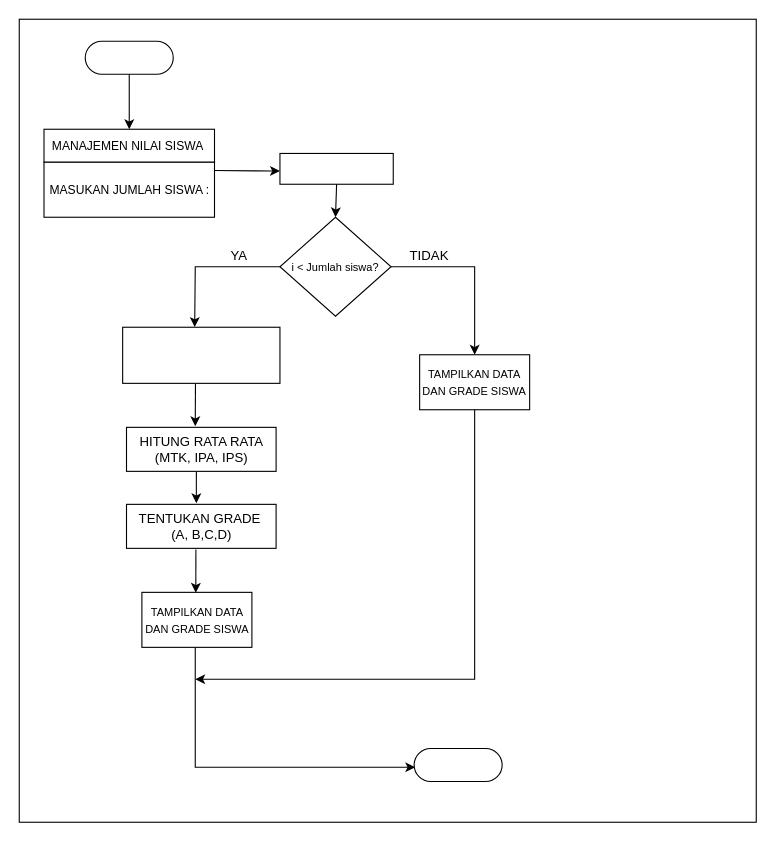
Image size: 776x842. Some labels were removed from this diagram. The box of each missing label's shape, as (x1, y1, x2, y2) in pixels:
i = 0: (279, 152, 393, 184)
INPUT NAMA SISWA, NILAI MATEMATIKA, NILAI IPA, NILAI IPS: (122, 326, 280, 383)
MULAI: (84, 40, 173, 74)
SELESAI: (413, 747, 502, 782)
